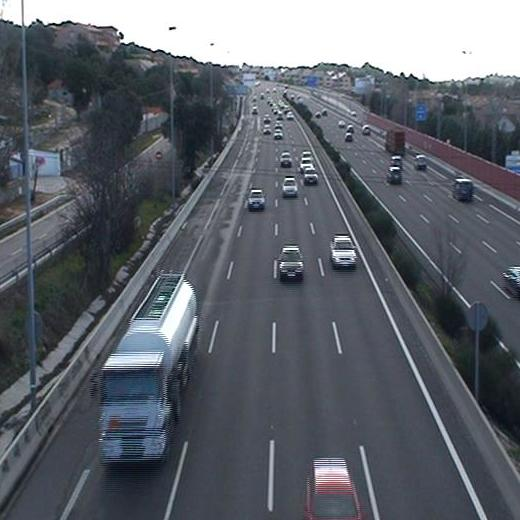car: (275, 245, 306, 282), (328, 234, 360, 269), (246, 187, 266, 211), (280, 175, 300, 196), (303, 168, 318, 185), (278, 151, 294, 166)
tank-truck: (89, 269, 202, 466)
